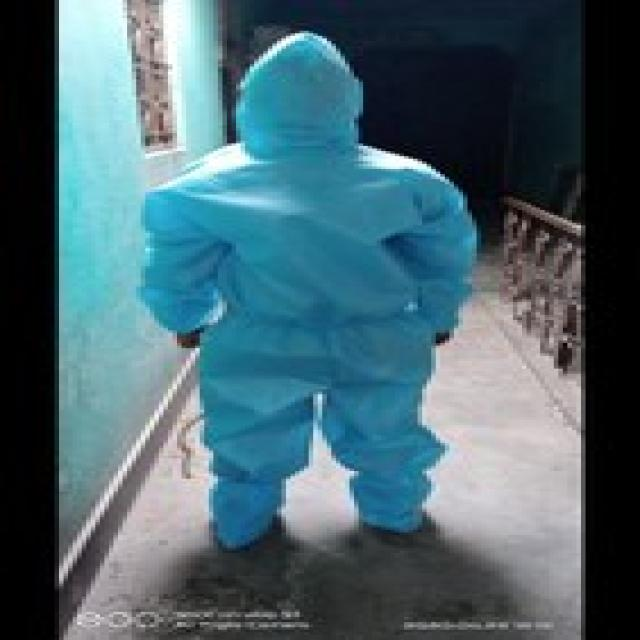Coverall: (136, 28, 486, 553)
